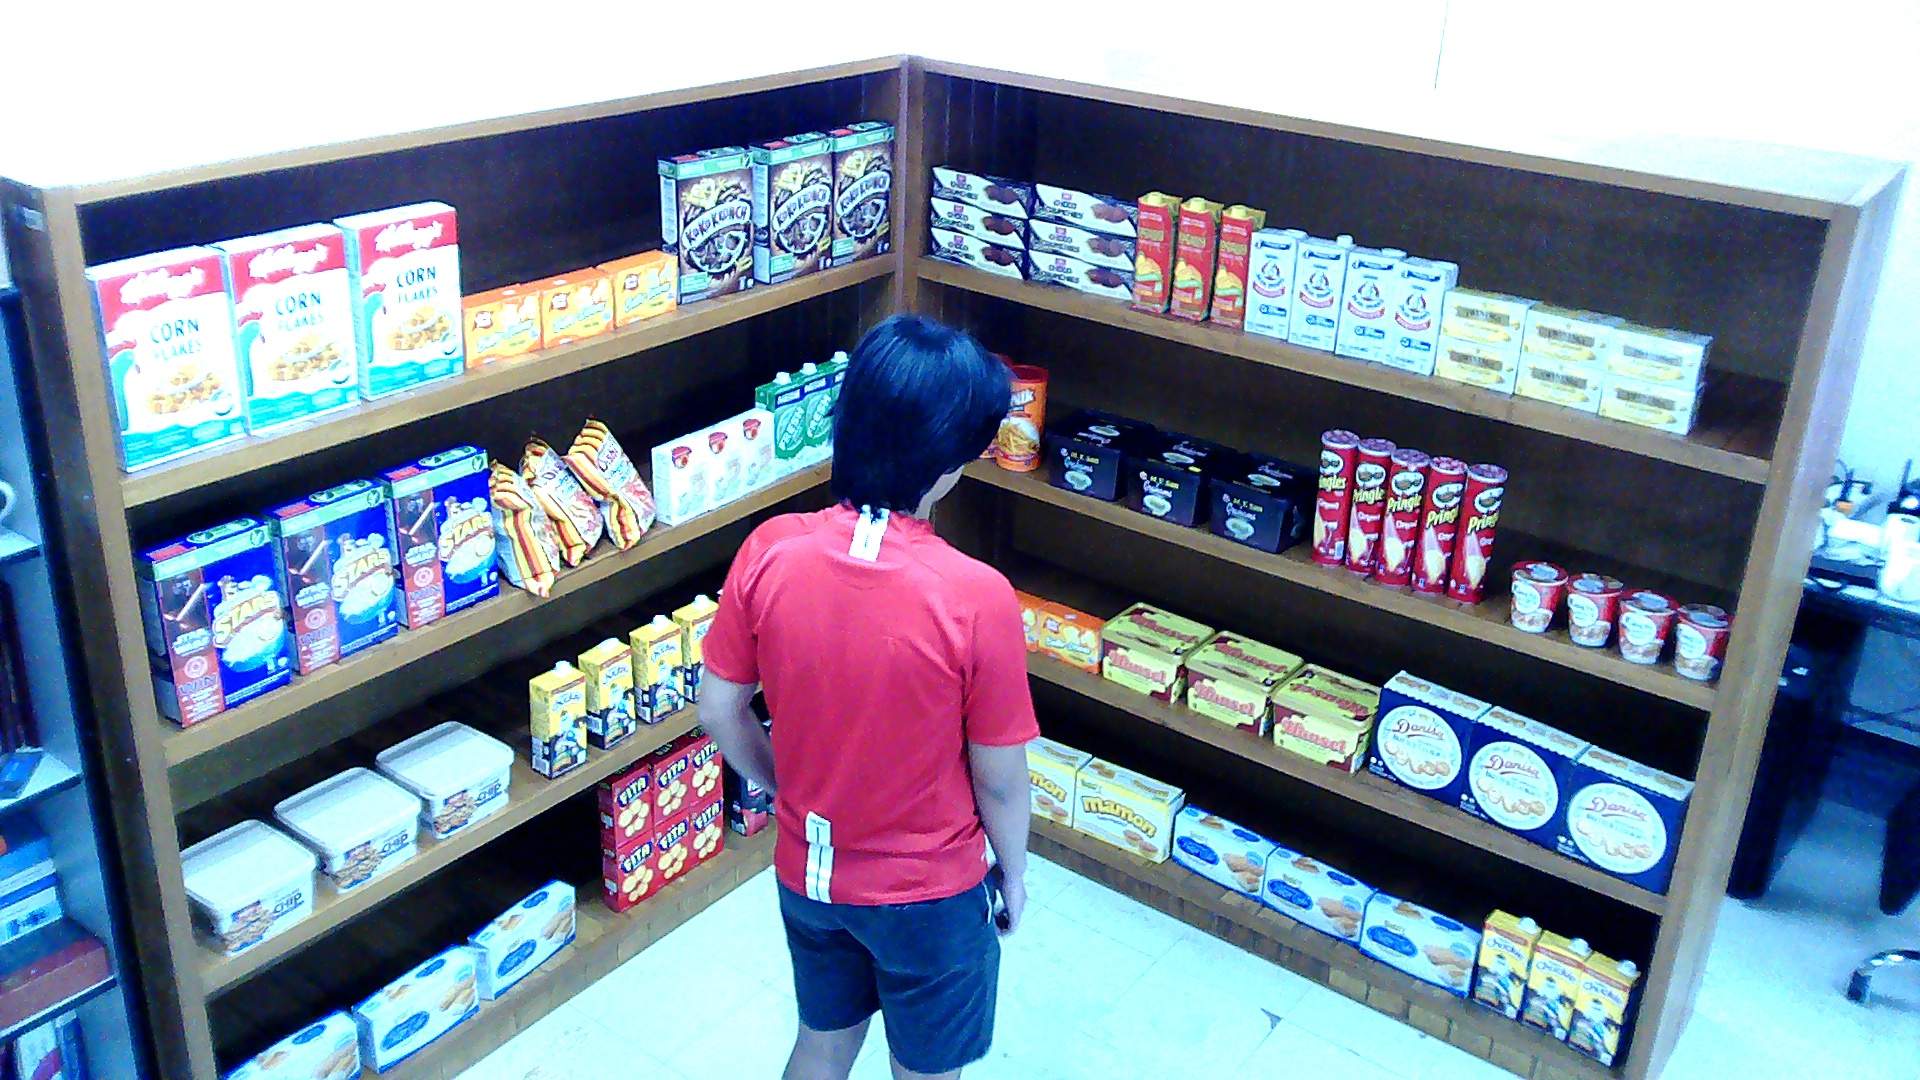Bear brand: (1383, 254, 1458, 376), (1286, 233, 1355, 350), (1334, 245, 1403, 360), (1241, 224, 1304, 337)
Buttercake: (351, 942, 477, 1075), (1359, 886, 1479, 999), (465, 877, 576, 999), (1260, 844, 1377, 947), (1170, 803, 1278, 902), (222, 1008, 360, 1076)
Butterlicious: (522, 265, 612, 348), (458, 283, 539, 369), (597, 248, 675, 324), (1038, 601, 1104, 673), (1014, 587, 1050, 650)
Camomille: (1608, 319, 1713, 389), (1521, 299, 1623, 369), (1598, 371, 1703, 434), (1440, 285, 1536, 350), (1515, 353, 1605, 414), (1434, 334, 1518, 393)
Choco Crunchies: (930, 162, 1032, 218), (1032, 182, 1137, 236), (1028, 218, 1133, 270), (927, 198, 1026, 250), (927, 227, 1023, 279), (1026, 252, 1131, 299)
Chocolate Chips: (177, 819, 315, 956), (273, 765, 420, 893), (375, 719, 513, 836)
Chuckie: (1565, 949, 1640, 1068), (1518, 929, 1590, 1044), (1473, 908, 1539, 1021), (528, 659, 588, 781), (576, 636, 636, 749), (626, 613, 683, 726), (672, 594, 717, 704)
Danisa: (1554, 745, 1692, 893), (1458, 704, 1590, 848), (1367, 668, 1490, 805)
Fita: (597, 758, 651, 848), (600, 828, 654, 911), (642, 738, 687, 826), (678, 726, 720, 805), (651, 807, 690, 890), (690, 790, 723, 866)
Fresh Milk: (753, 371, 801, 477), (791, 362, 830, 468), (819, 351, 849, 405)
Grahams: (1122, 429, 1236, 526), (1206, 452, 1314, 553), (1043, 407, 1154, 499)
Hansel: (1184, 630, 1301, 738), (1269, 661, 1380, 774), (1098, 603, 1215, 702)
Head: (804, 297, 1026, 527)
Honey Stars: (132, 513, 288, 729), (258, 477, 396, 675), (372, 440, 498, 629)
Kellogg Corn Flakes: (84, 243, 246, 475), (201, 223, 360, 437), (332, 200, 461, 400)
Kimchi Noodles: (1671, 602, 1734, 683), (1617, 584, 1677, 663), (1508, 558, 1565, 634), (1569, 572, 1620, 648)
Koko Krunch: (657, 144, 753, 306), (747, 128, 834, 285), (824, 116, 893, 267)
Locally Mango: (1208, 205, 1265, 329), (1170, 196, 1224, 320), (1131, 189, 1182, 313)
Mamon: (1071, 756, 1185, 864), (1023, 734, 1089, 826)
Oishi Prawn: (558, 411, 654, 551), (515, 427, 602, 569), (488, 459, 557, 599)
Pik-nik: (995, 362, 1046, 470)
Pringles: (1446, 461, 1506, 603), (1410, 454, 1467, 594), (1374, 445, 1428, 585), (1343, 436, 1394, 578), (1311, 427, 1359, 567)
Super Fruits: (729, 765, 765, 837)
iHop: (650, 432, 707, 526), (690, 419, 744, 511), (728, 407, 773, 493)
